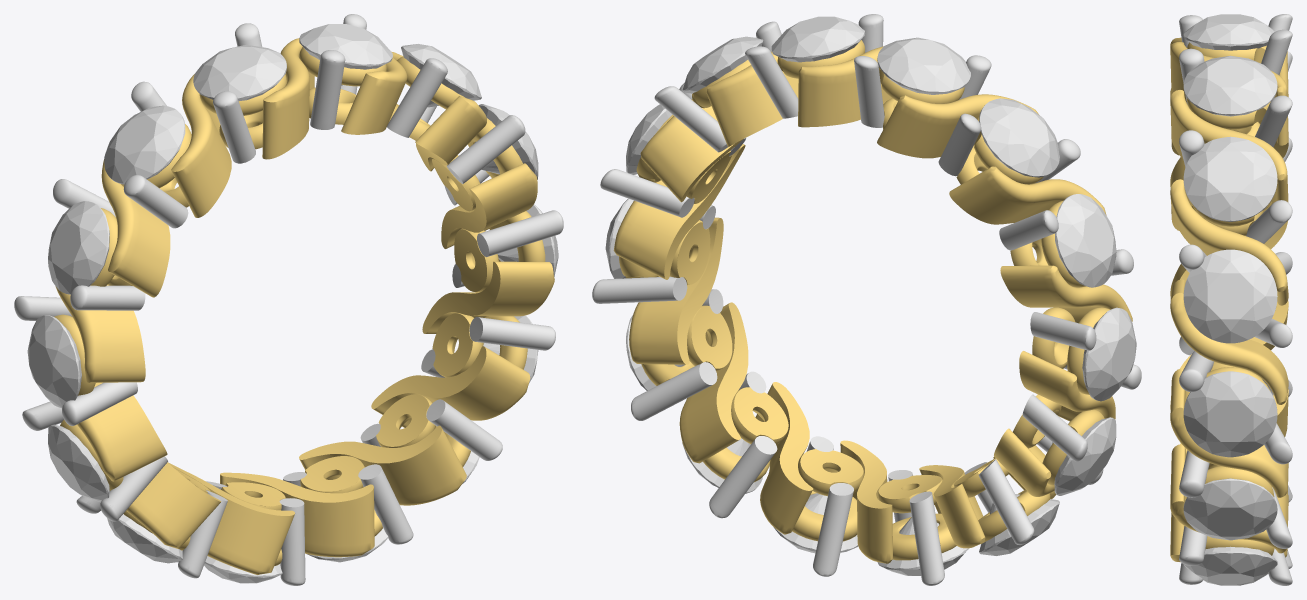
The model's file is GregNEWwb_blender.glb.
The picture shows the model from 3 angles, left to right: view 1: azimuth 30°, elevation 25°; view 2: azimuth 150°, elevation 25°; view 3: azimuth 270°, elevation 25°; orthographic projection.
Visible parts, largest first — view 1: Greg YG for 3d model, Greg PT for 3d model, Greg dia for 3d model.011, Greg dia for 3d model.010, Greg dia for 3d model.012, Greg dia for 3d model.009, Greg dia for 3d model.013, Greg dia for 3d model.008, Greg dia for 3d model, Greg dia for 3d model.007, Greg dia for 3d model.001, Greg dia for 3d model.006 (+1 smaller); view 2: Greg YG for 3d model, Greg PT for 3d model, Greg dia for 3d model.011, Greg dia for 3d model.010, Greg dia for 3d model.012, Greg dia for 3d model.009, Greg dia for 3d model.013, Greg dia for 3d model.008, Greg dia for 3d model, Greg dia for 3d model.007, Greg dia for 3d model.001, Greg dia for 3d model.006 (+3 smaller); view 3: Greg YG for 3d model, Greg PT for 3d model, Greg dia for 3d model.001, Greg dia for 3d model.002, Greg dia for 3d model, Greg dia for 3d model.003, Greg dia for 3d model.013, Greg dia for 3d model.012, Greg dia for 3d model.004.
Part boxes in pixels (left/top/right/bottom): Greg YG for 3d model: left=54, top=38, right=554, bottom=574; Greg PT for 3d model: left=14, top=14, right=563, bottom=585; Greg dia for 3d model.011: left=104, top=105, right=185, bottom=184; Greg dia for 3d model.010: left=48, top=201, right=109, bottom=294; Greg dia for 3d model.012: left=193, top=44, right=286, bottom=100; Greg dia for 3d model.009: left=27, top=315, right=81, bottom=408; Greg dia for 3d model.013: left=299, top=24, right=392, bottom=85; Greg dia for 3d model.008: left=48, top=424, right=109, bottom=502; Greg dia for 3d model: left=401, top=44, right=481, bottom=107; Greg dia for 3d model.007: left=107, top=514, right=182, bottom=563; Greg dia for 3d model.001: left=475, top=104, right=538, bottom=179; Greg dia for 3d model.006: left=204, top=556, right=282, bottom=583; Greg YG for 3d model: left=613, top=40, right=1132, bottom=563; Greg PT for 3d model: left=592, top=14, right=1141, bottom=585; Greg dia for 3d model.011: left=979, top=98, right=1059, bottom=177; Greg dia for 3d model.010: left=1055, top=194, right=1116, bottom=287; Greg dia for 3d model.012: left=877, top=37, right=970, bottom=94; Greg dia for 3d model.009: left=1082, top=307, right=1136, bottom=401; Greg dia for 3d model.013: left=771, top=16, right=865, bottom=62; Greg dia for 3d model.008: left=1052, top=417, right=1116, bottom=495; Greg dia for 3d model: left=682, top=36, right=763, bottom=93; Greg dia for 3d model.007: left=979, top=494, right=1059, bottom=555; Greg dia for 3d model.001: left=626, top=104, right=672, bottom=174; Greg dia for 3d model.006: left=877, top=517, right=968, bottom=575; Greg YG for 3d model: left=1170, top=37, right=1288, bottom=562; Greg PT for 3d model: left=1179, top=14, right=1292, bottom=585; Greg dia for 3d model.001: left=1183, top=249, right=1277, bottom=343; Greg dia for 3d model.002: left=1183, top=371, right=1277, bottom=457; Greg dia for 3d model: left=1183, top=136, right=1277, bottom=221; Greg dia for 3d model.003: left=1183, top=478, right=1277, bottom=540; Greg dia for 3d model.013: left=1183, top=55, right=1277, bottom=116; Greg dia for 3d model.012: left=1183, top=14, right=1275, bottom=50; Greg dia for 3d model.004: left=1183, top=546, right=1277, bottom=584.
Bounding box in the file's own units: 21.42 × 21.35 × 4.56.
